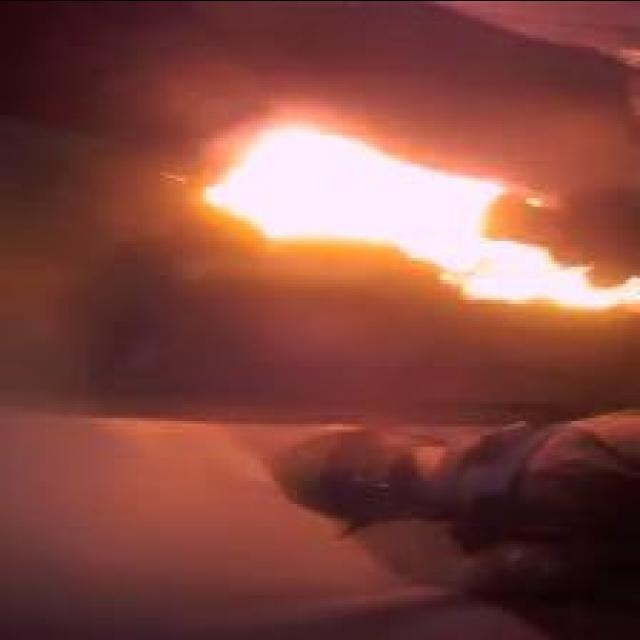Fire: (205, 123, 640, 309)
